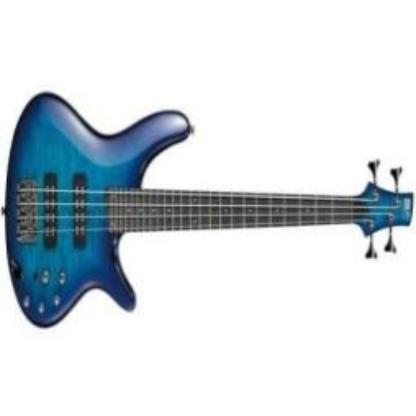bass: (1, 91, 414, 329)
